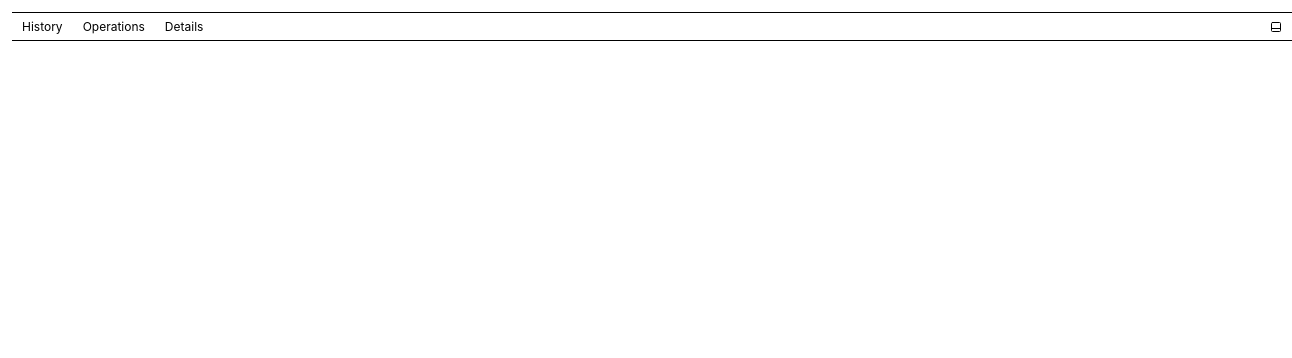
BottomPanel — workspace bottom dock (#2426) › [bottom-panel] switching tabs swaps the view inside the same region
The image size is (1292, 358).
Click the tab "History" at (42, 27), box [12,14,73,40]
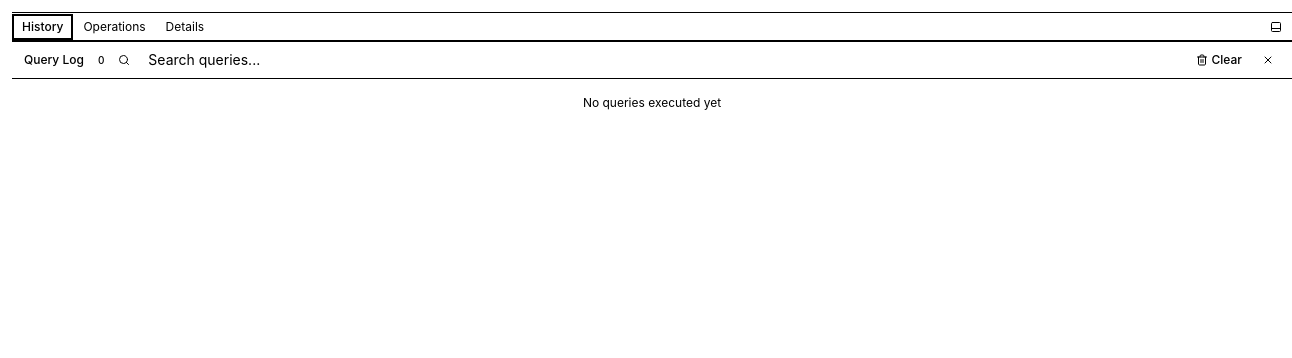
Expected: the element with test id "global-query-log-panel" is shown
Click the tab "Operations" at (114, 27), box [73,14,156,40]
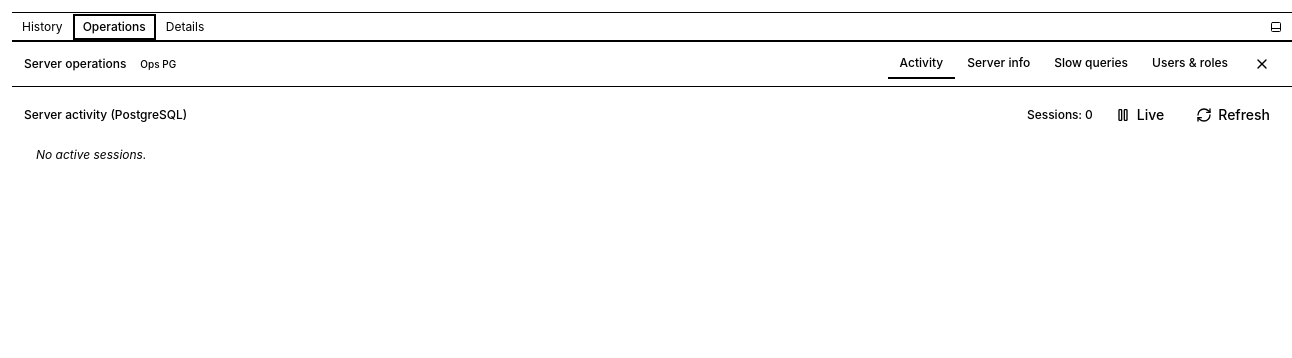
Expected: the element with test id "operations-panel" is shown
Expected: the element with test id "global-query-log-panel" is gone
